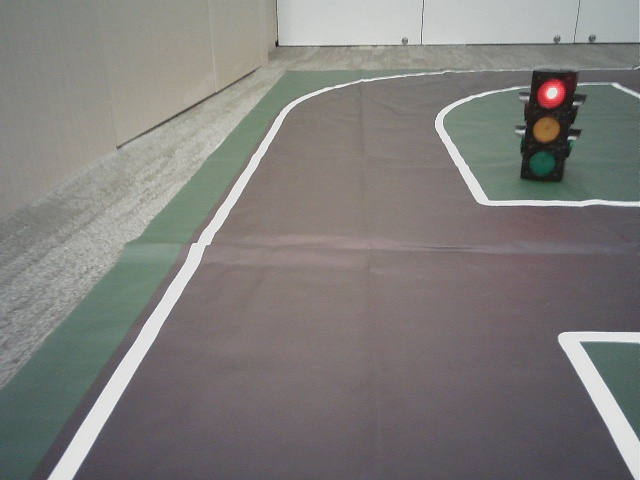red: (528, 78, 566, 180)
